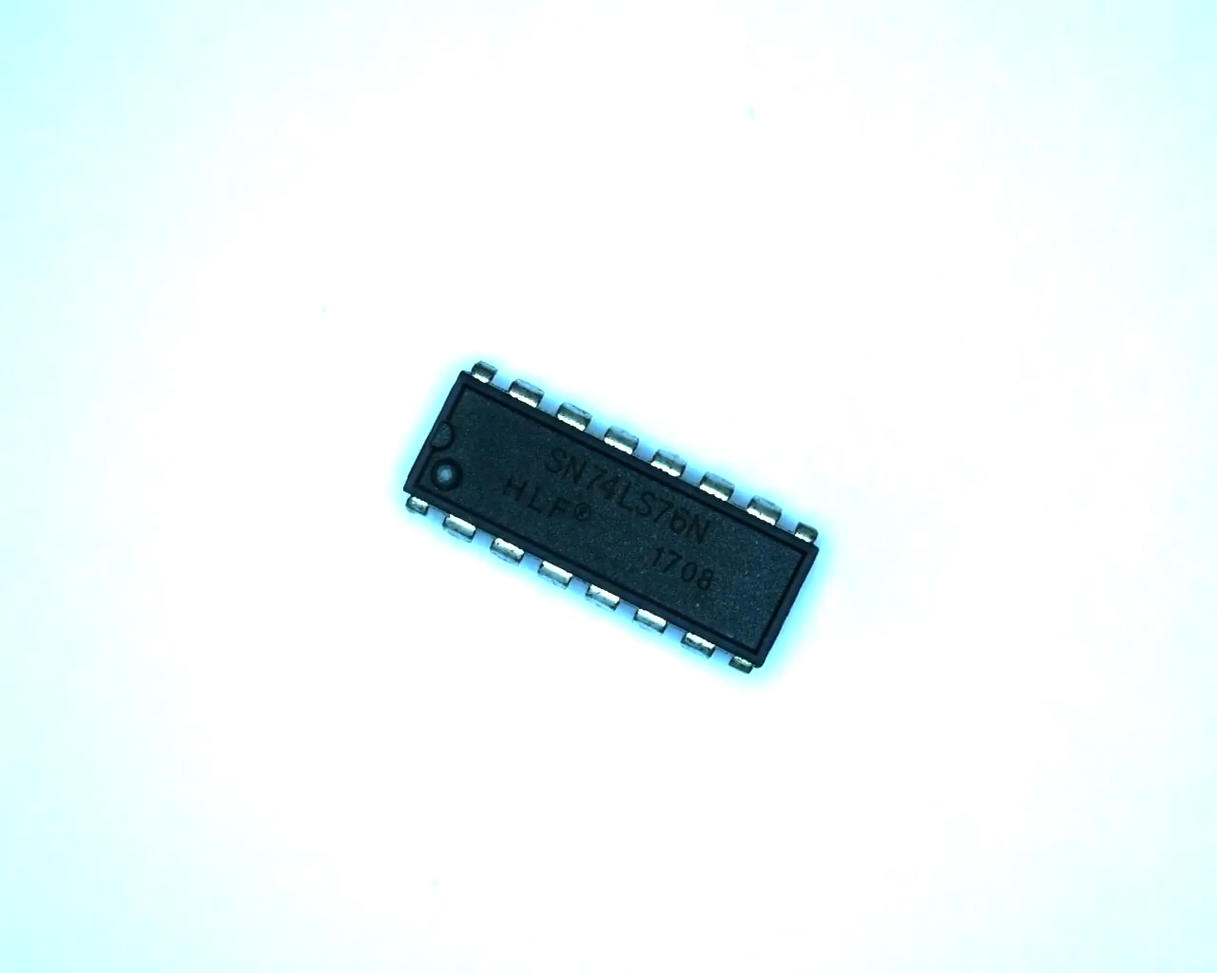IC: (391, 351, 836, 687)
notch: (424, 415, 462, 456)
